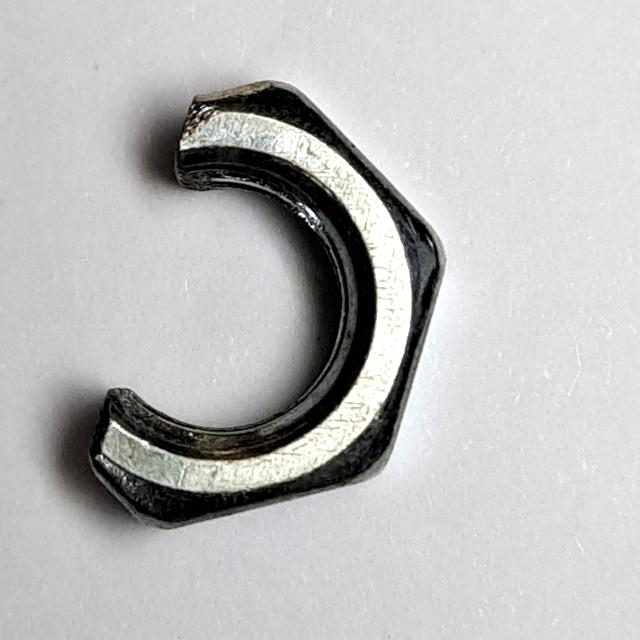Fracture: (77, 72, 462, 542)
